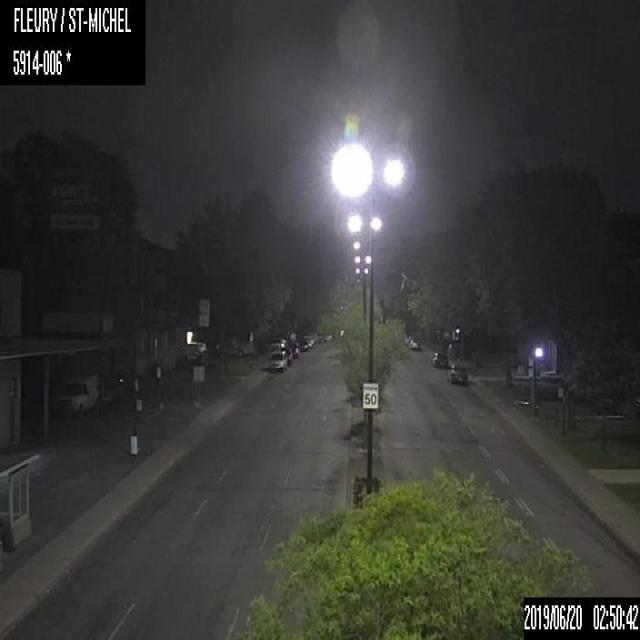vehicle: (50, 372, 97, 415), (267, 348, 286, 372), (228, 337, 250, 356), (448, 362, 466, 384), (430, 350, 450, 368), (288, 340, 298, 358), (409, 336, 420, 351), (282, 348, 292, 364), (303, 332, 312, 347), (299, 340, 309, 352)
